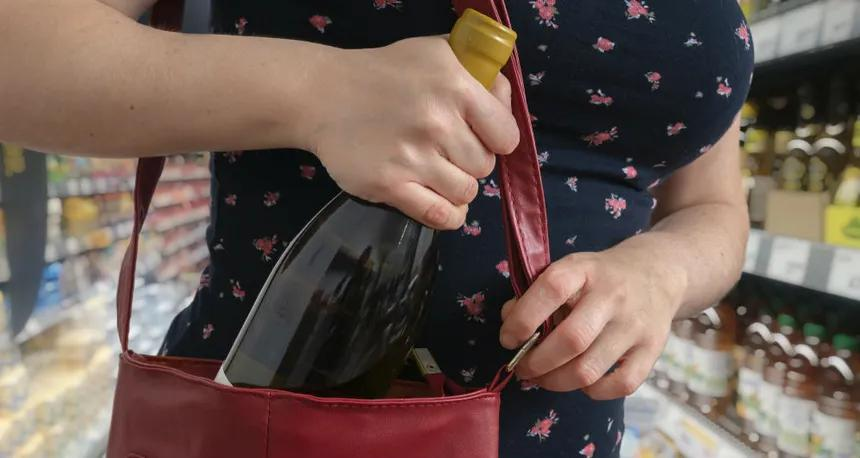shoplifting: (125, 12, 698, 458)
